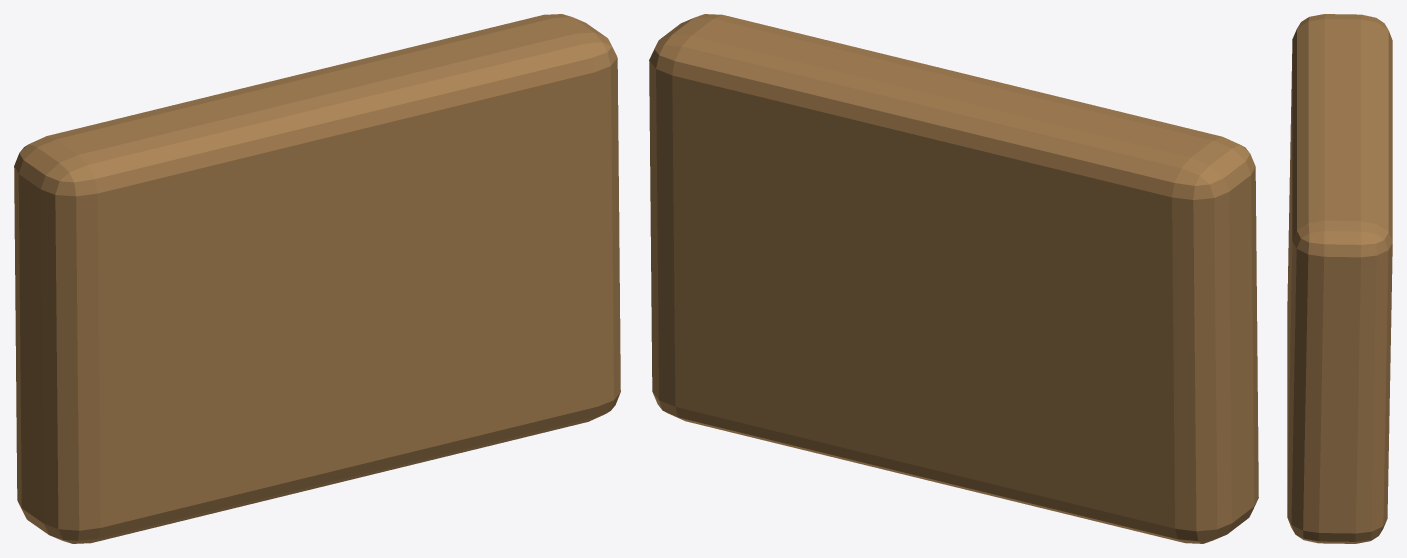
Rendered from Pillow_3.fbx.
3 renders of one model, left to right at view 1: azimuth 30°, elevation 25°; view 2: azimuth 150°, elevation 25°; view 3: azimuth 270°, elevation 25°, orthographic. The views are drawn at different scales.
Visible parts, largest first — view 1: Pillow_3; view 2: Pillow_3; view 3: Pillow_3.
Boxes of the visible parts, left/top/right/bottom form: Pillow_3: left=14, top=14, right=620, bottom=543; Pillow_3: left=649, top=14, right=1258, bottom=543; Pillow_3: left=1287, top=14, right=1392, bottom=543.
Size of the model in its own units: 0.3838 by 0.2453 by 0.0737.
